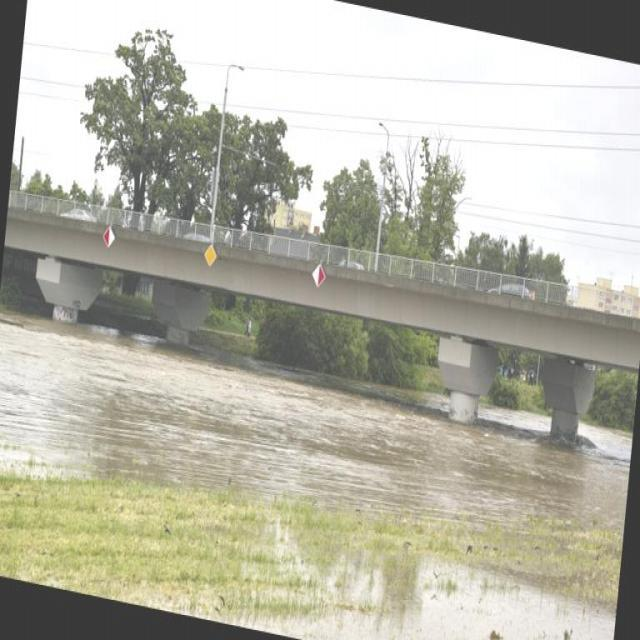flood: (0, 277, 636, 592)
